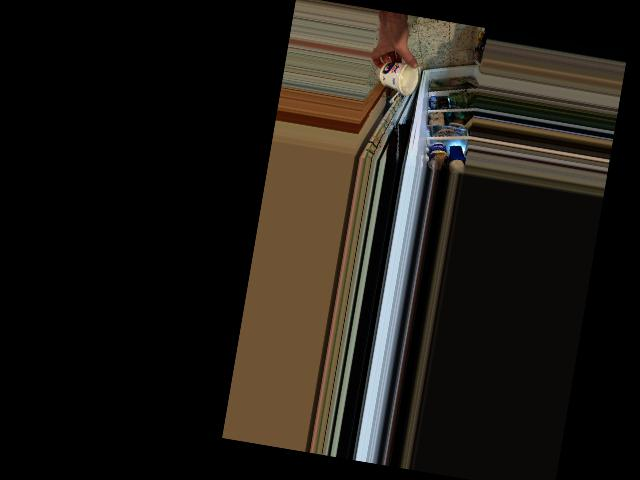cotage: (378, 57, 420, 94)
